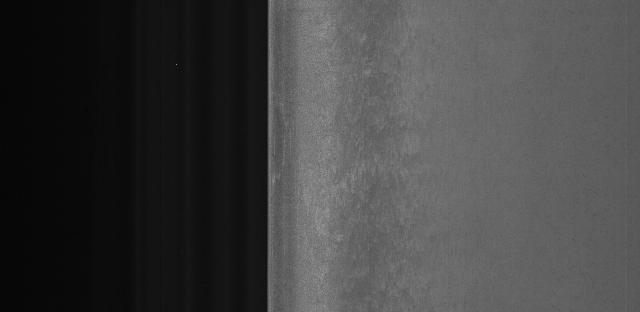silk_spot: (326, 32, 412, 282)
